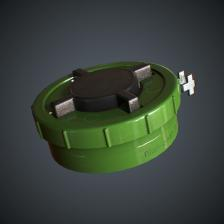PMN2: (27, 50, 206, 176)
